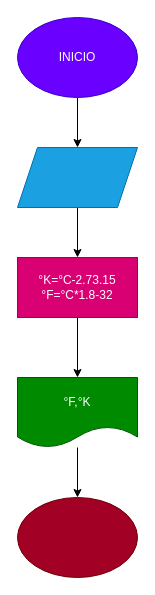
Some shapes in this 155 by 595 pixel diagram are drawn without their labels. The box of each missing label's shape, as (x1, y1, x2, y2) in pixels:
FIN: (16, 496, 138, 578)
°C: (16, 146, 138, 208)
